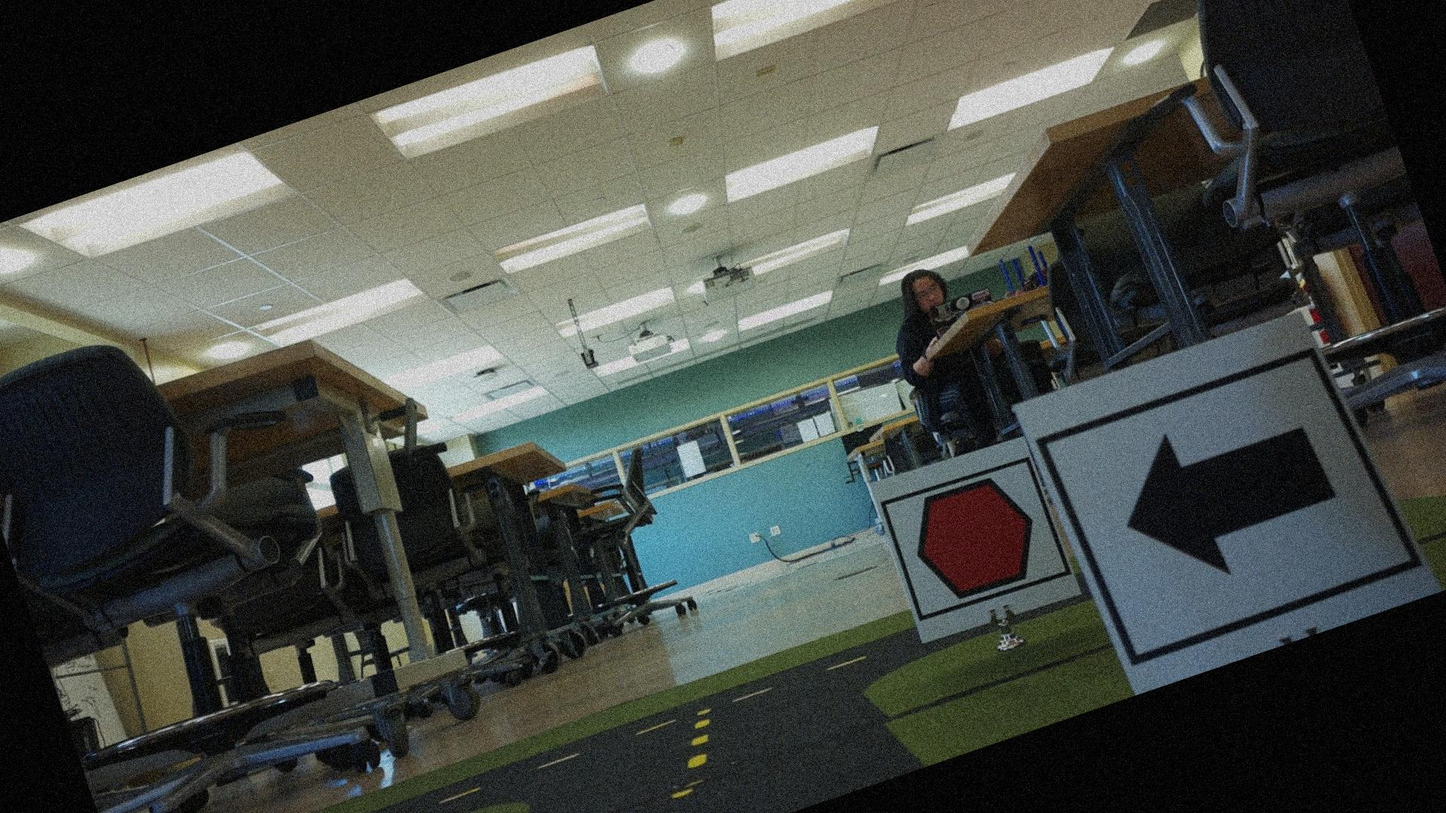stop: (886, 458, 1063, 621)
turnright: (1052, 351, 1396, 664)
yellowline: (632, 715, 740, 812)
